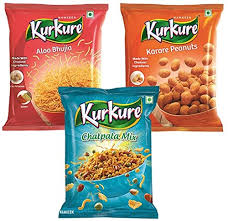kurkure: (74, 96, 144, 129), (139, 15, 201, 44), (25, 14, 82, 43)
plastic: (3, 2, 225, 135), (54, 83, 166, 219)
wrapper: (54, 80, 168, 219)
